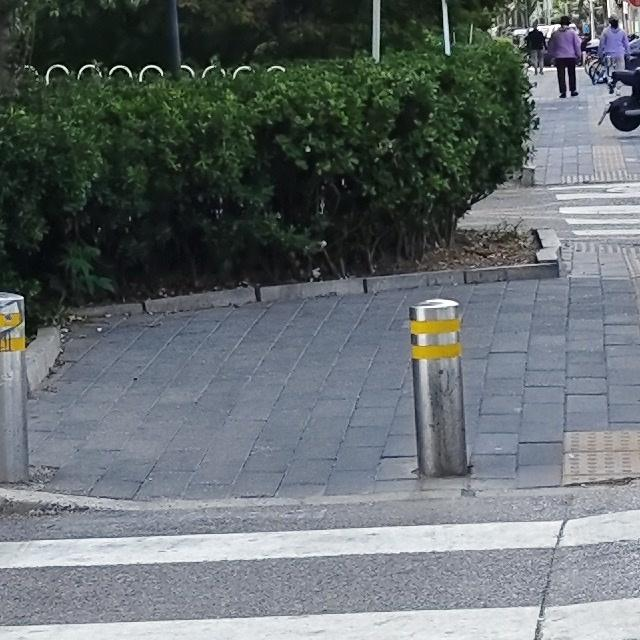curb: (72, 259, 559, 319), (0, 486, 371, 511), (371, 483, 631, 502), (27, 328, 60, 393), (536, 230, 560, 261)
